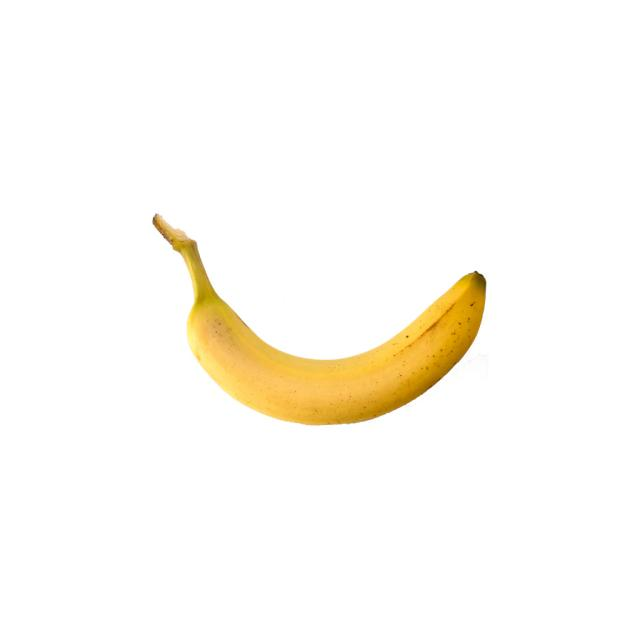banana: (154, 216, 483, 423)
